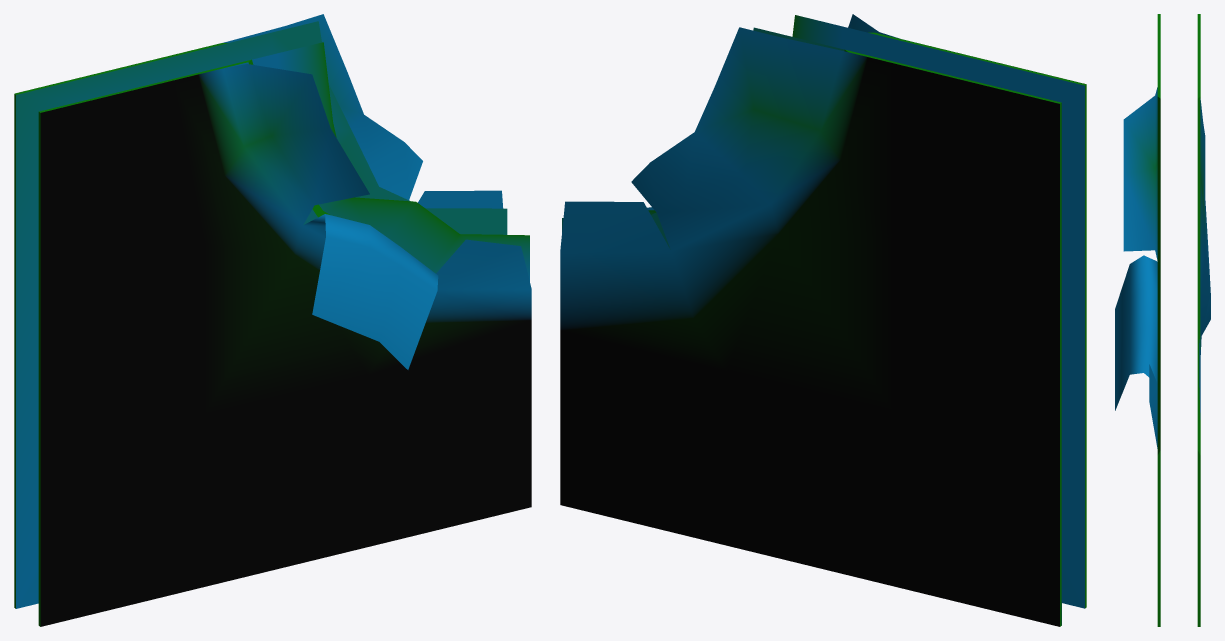
Rendered from DBK_Drywall_90_B.fbx.
3 views of the same model, side by side, from view 1: azimuth 30°, elevation 25°; view 2: azimuth 150°, elevation 25°; view 3: azimuth 270°, elevation 25° (orthographic). The views are drawn at different scales.
Visible parts, largest first — view 1: DBK_Drywall_90_B; view 2: DBK_Drywall_90_B; view 3: DBK_Drywall_90_B.
Part boxes in pixels (x1,y1,x2,y2): DBK_Drywall_90_B: [14, 14, 531, 626]; DBK_Drywall_90_B: [560, 14, 1086, 626]; DBK_Drywall_90_B: [1115, 14, 1210, 626].
Size of what is drawn, in the model's own units: 300 by 301 by 62.23.
